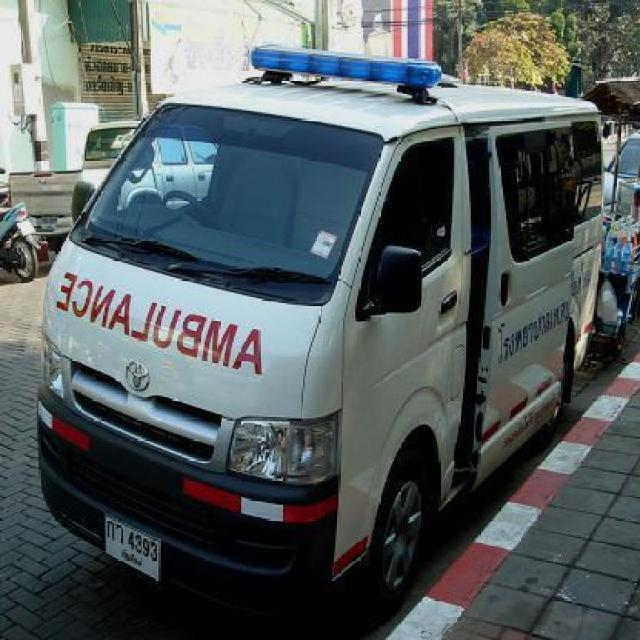emergency: (35, 43, 610, 617)
